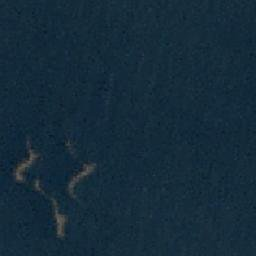debris: (13, 153, 37, 185), (68, 163, 95, 185), (53, 203, 67, 237), (66, 141, 77, 159), (38, 189, 53, 201), (27, 139, 33, 154)
